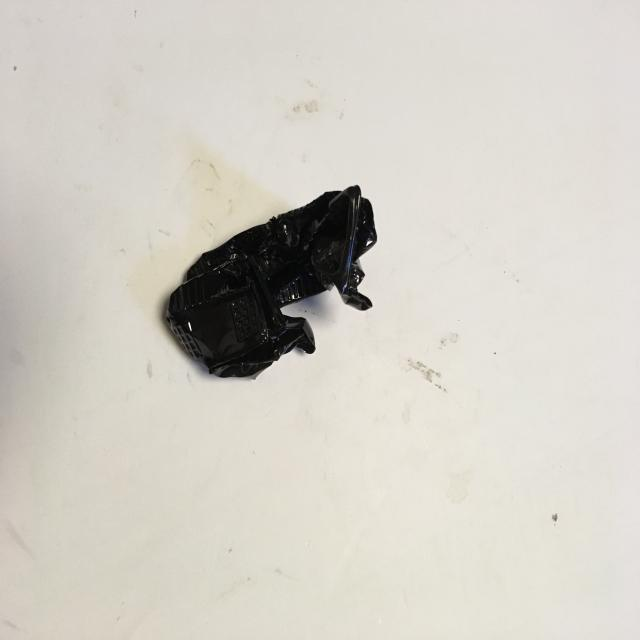plastic: (162, 182, 380, 388)
